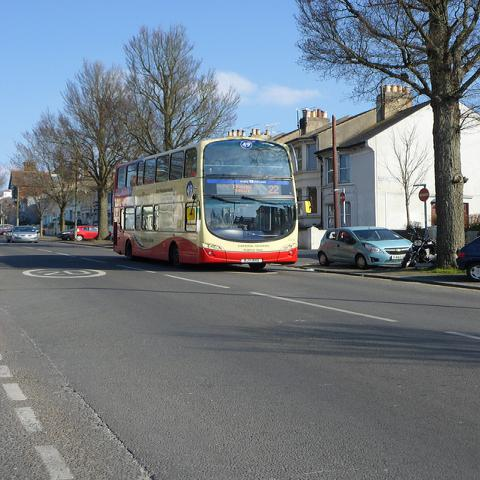bus: (110, 137, 298, 270)
car: (317, 226, 412, 268), (455, 236, 479, 280), (59, 225, 100, 241), (5, 226, 38, 243)
